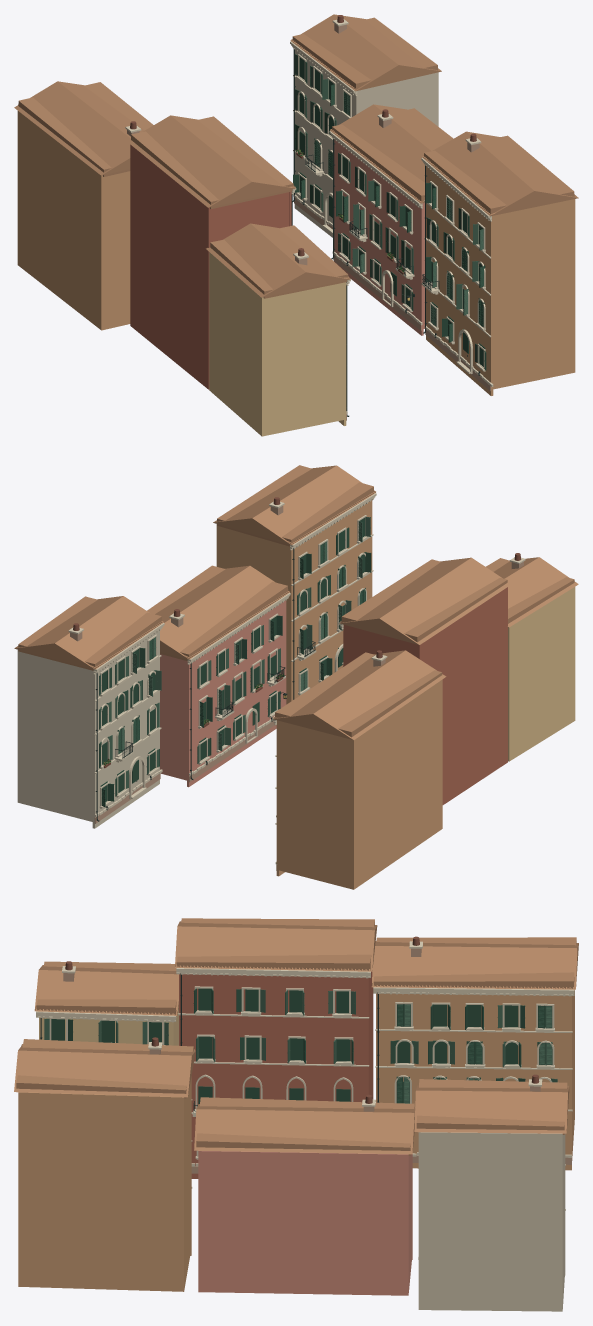
Rendered from canal-08.glb.
3 views of the same model, one above another, from view 1: azimuth 30°, elevation 25°; view 2: azimuth 150°, elevation 25°; view 3: azimuth 270°, elevation 25° (orthographic). The views are drawn at different scales.
Parts seen in each view (by area): view 1: Main elevations / kit:roof, Main elevations / kit:walls:0, Main elevations / kit:walls:2, Distant elevations / kit:walls:0, Main elevations / kit:walls:4, Distant elevations / kit:roof, Main elevations / kit:stone, Distant elevations / kit:walls:3, Distant elevations / kit:walls:1, Main elevations / kit:greenDark, Main elevations / kit:green, Distant elevations / kit:greenDark (+6 smaller); view 2: Main elevations / kit:roof, Distant elevations / kit:walls:0, Main elevations / kit:walls:0, Main elevations / kit:walls:4, Distant elevations / kit:roof, Main elevations / kit:walls:3, Main elevations / kit:stone, Main elevations / kit:walls:2, Distant elevations / kit:walls:3, Main elevations / kit:walls:1, Distant elevations / kit:walls:1, Distant elevations / kit:greenDark (+6 smaller); view 3: Main elevations / kit:walls:0, Main elevations / kit:roof, Main elevations / kit:walls:1, Main elevations / kit:walls:3, Distant elevations / kit:roof, Main elevations / kit:walls:4, Main elevations / kit:stone, Distant elevations / kit:walls:0, Distant elevations / kit:greenDark, Distant elevations / kit:walls:4, Main elevations / kit:green, Main elevations / kit:greenDark (+4 smaller).
Part boxes in pixels (box(x1,y1,x2,y2)): Main elevations / kit:roof: box(14, 14, 578, 297); Main elevations / kit:walls:0: box(17, 111, 575, 395); Main elevations / kit:walls:2: box(209, 252, 346, 436); Distant elevations / kit:walls:0: box(428, 175, 568, 389); Main elevations / kit:walls:4: box(130, 144, 291, 389); Distant elevations / kit:roof: box(18, 17, 574, 298); Main elevations / kit:stone: box(125, 19, 493, 413); Distant elevations / kit:walls:3: box(295, 49, 435, 223); Distant elevations / kit:walls:1: box(338, 144, 423, 328); Main elevations / kit:greenDark: box(293, 61, 486, 370); Main elevations / kit:green: box(295, 54, 483, 363); Distant elevations / kit:greenDark: box(299, 57, 485, 366); Main elevations / kit:roof: box(14, 465, 578, 740); Distant elevations / kit:walls:0: box(219, 500, 372, 888); Main elevations / kit:walls:0: box(216, 521, 442, 889); Main elevations / kit:walls:4: box(343, 587, 507, 804); Distant elevations / kit:roof: box(18, 465, 574, 737); Main elevations / kit:walls:3: box(17, 643, 159, 828); Main elevations / kit:stone: box(68, 493, 525, 864); Main elevations / kit:walls:2: box(508, 587, 575, 761); Distant elevations / kit:walls:3: box(20, 630, 159, 822); Main elevations / kit:walls:1: box(160, 624, 278, 787); Distant elevations / kit:walls:1: box(186, 600, 286, 780); Distant elevations / kit:greenDark: box(100, 517, 365, 801); Main elevations / kit:walls:0: box(18, 990, 574, 1291); Main elevations / kit:roof: box(14, 921, 578, 1154); Main elevations / kit:walls:1: box(198, 1150, 412, 1295); Main elevations / kit:walls:3: box(418, 1132, 565, 1311); Distant elevations / kit:roof: box(16, 918, 576, 1155); Main elevations / kit:walls:4: box(182, 971, 373, 1178); Main elevations / kit:stone: box(36, 941, 574, 1259); Distant elevations / kit:walls:0: box(184, 994, 574, 1289); Distant elevations / kit:greenDark: box(51, 988, 551, 1103); Distant elevations / kit:walls:4: box(179, 974, 351, 1138); Main elevations / kit:green: box(44, 989, 557, 1103); Main elevations / kit:greenDark: box(68, 988, 544, 1103).
Bounding box in the file's own units: 35.9 × 19.8 × 43.48.
